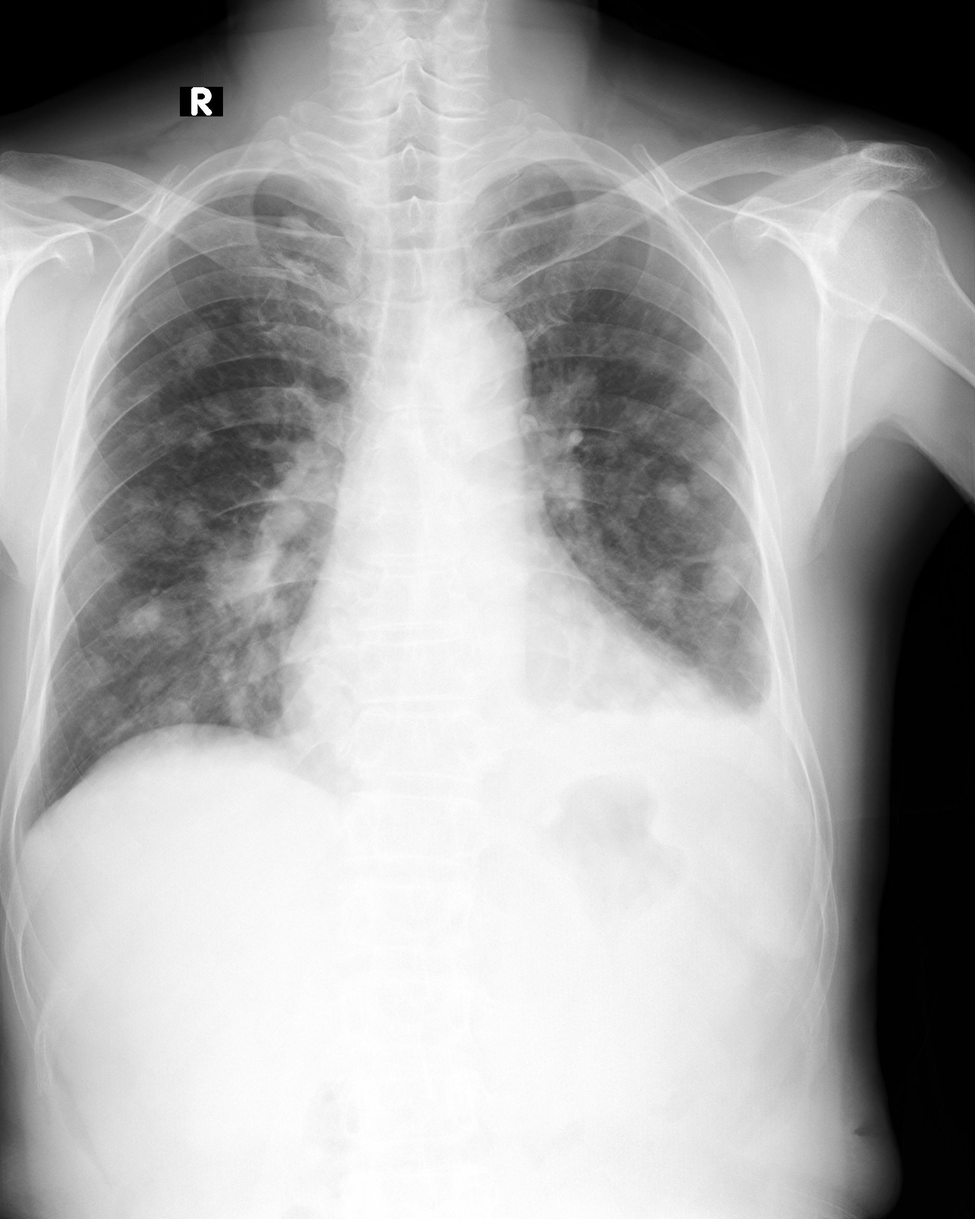Cardiomegaly: (278, 633, 749, 788)
Pleural thickening: (724, 664, 794, 800)
